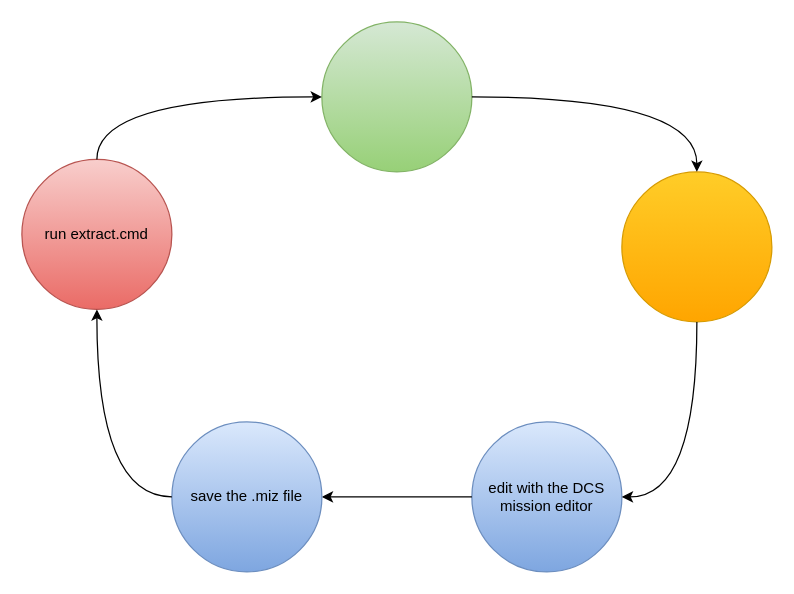
This 794x594 diagram has some shape labels left out. Here are the shapes that lost their labels. From the top down, the centre of each, then its label:
At (396,96): "edit scripts and/or configuration".
At (696,246): "run build.cmd".
